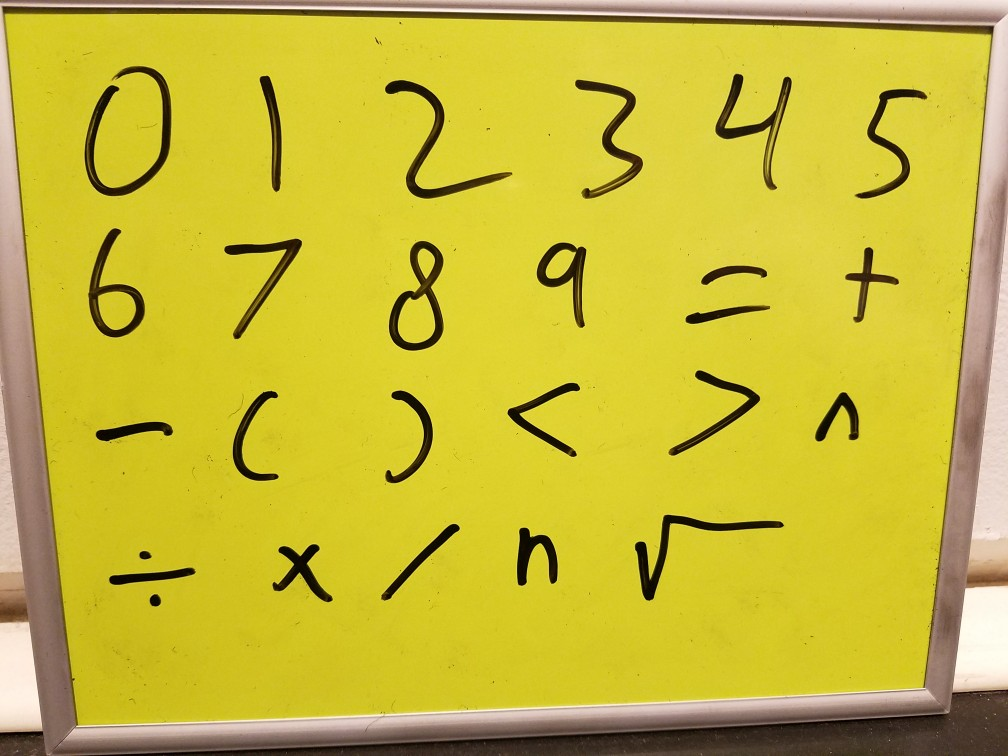(: (212, 380, 297, 497)
): (377, 379, 448, 492)
+: (828, 234, 906, 332)
-: (89, 403, 181, 454)
/: (374, 513, 466, 616)
0: (60, 52, 187, 209)
1: (232, 60, 309, 209)
2: (371, 54, 526, 212)
3: (559, 63, 658, 224)
4: (701, 52, 801, 205)
5: (841, 69, 942, 221)
6: (57, 215, 156, 351)
7: (216, 224, 309, 351)
8: (382, 227, 454, 356)
9: (529, 222, 598, 339)
<: (493, 360, 595, 473)
=: (659, 245, 792, 340)
>: (653, 354, 770, 466)
^: (800, 385, 877, 468)
div: (104, 533, 198, 612)
n: (498, 510, 577, 600)
sqrt: (612, 492, 824, 626)
x: (271, 527, 336, 613)
